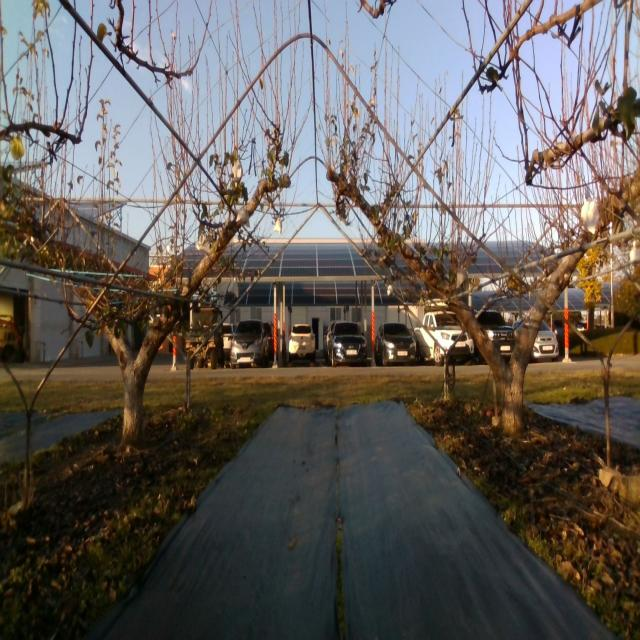pearbags: (581, 200, 600, 236), (236, 209, 250, 228), (200, 230, 212, 252), (456, 269, 468, 291), (233, 158, 243, 184)
